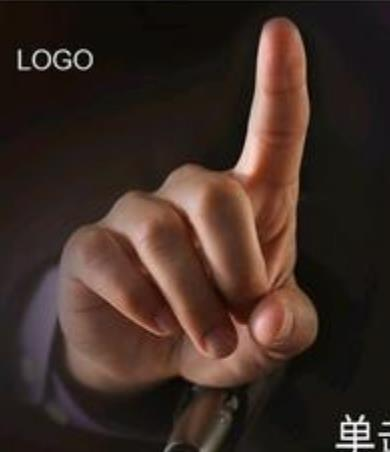up: (52, 16, 316, 397)
